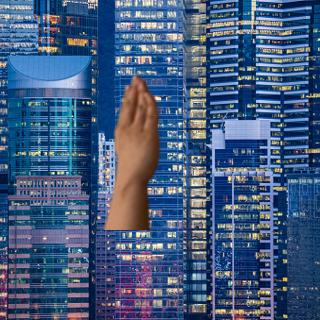RIGHT: (107, 73, 165, 187)
